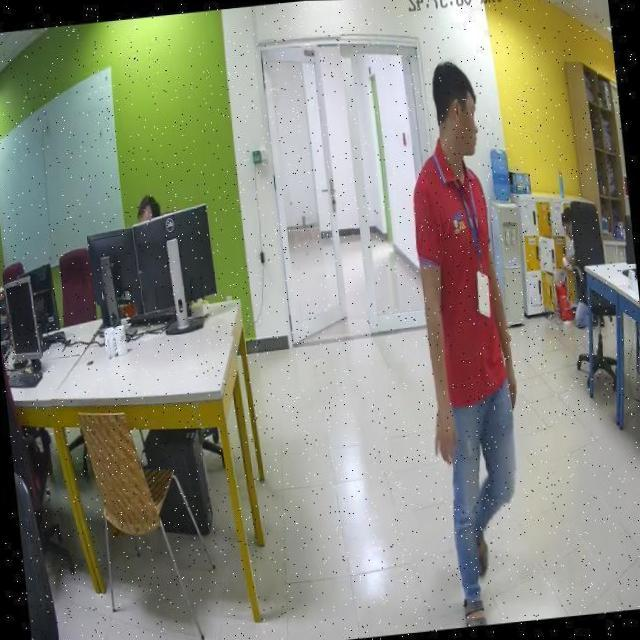person: (396, 61, 538, 628)
